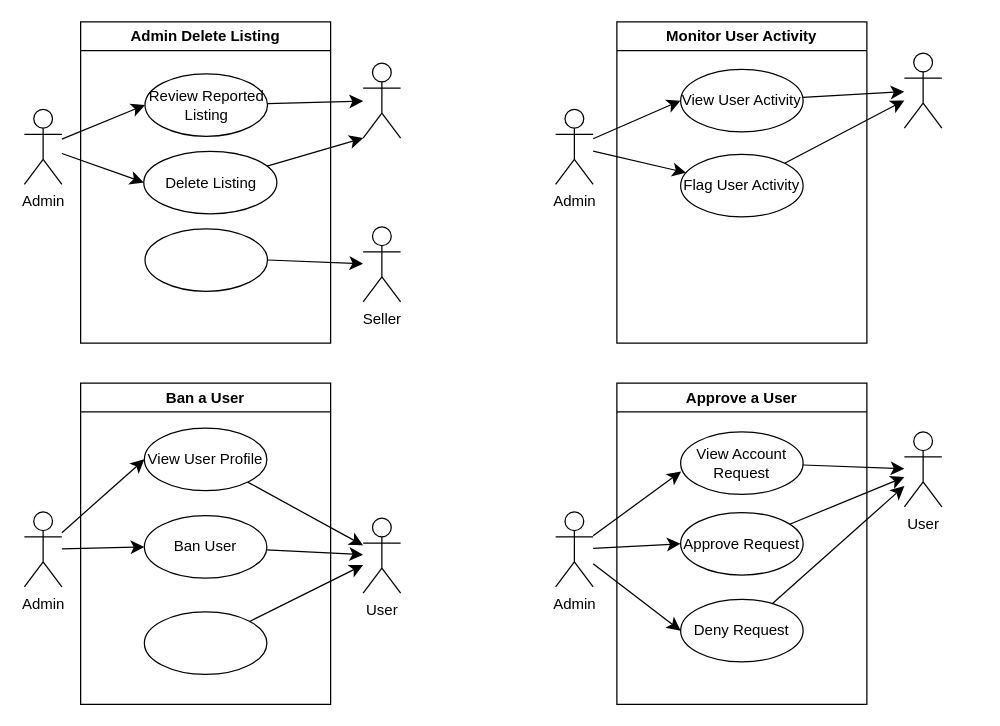
This 1000x726 diagram has some shape labels left out. The centre of each missing label's shape, as x and y in pixels:
Listings: point (381, 100)
Notify Seller: point (206, 259)
Notify User of Ban: point (205, 642)
User Activity Log: point (922, 90)
